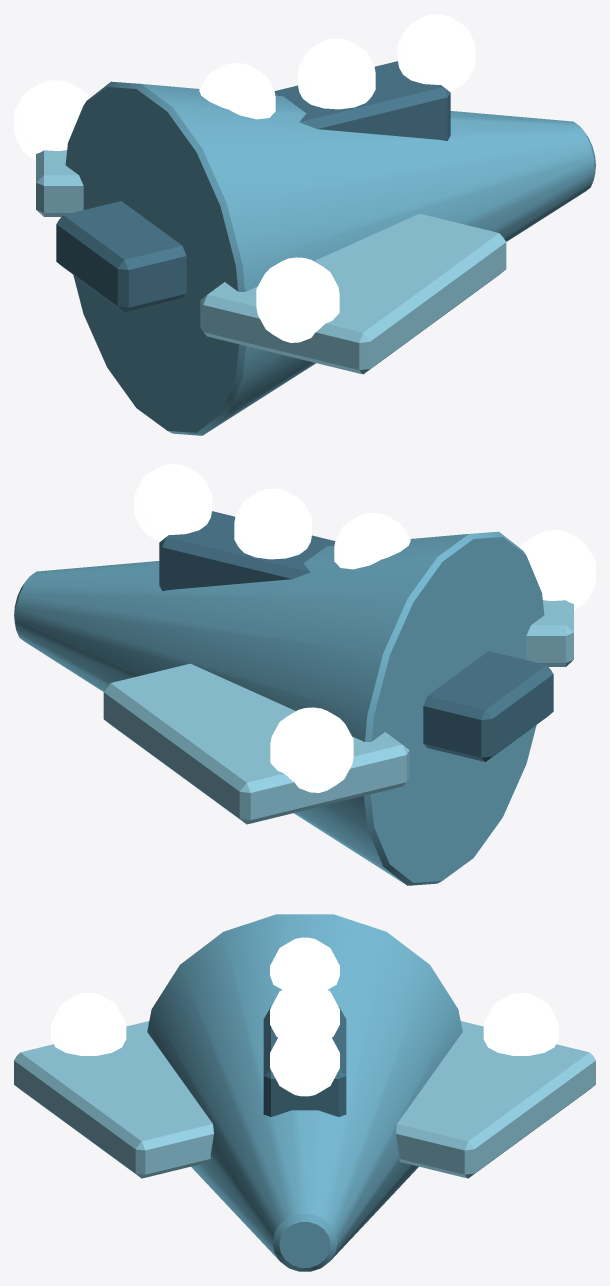
The model's file is enemy_surger.glb.
The picture shows the model from 3 angles, top to bottom: view 1: azimuth 30°, elevation 25°; view 2: azimuth 150°, elevation 25°; view 3: azimuth 270°, elevation 25°; orthographic projection. The views are drawn at different scales.
Visible parts, largest first — view 1: Cone, Cube, Cube.003, Cube.002, Sphere, Sphere.004, Sphere.003, Sphere.001, Sphere.002, Cube.001; view 2: Cone, Cube.001, Cube.003, Cube.002, Sphere.001, Sphere.004, Sphere.003, Sphere, Sphere.002, Cube; view 3: Cone, Cube, Cube.001, Sphere.004, Sphere, Sphere.001, Cube.002, Sphere.003, Sphere.002.
Boxes of the visible parts, x1=… form: Cone: x1=65, y1=81, x2=595, y2=435; Cube: x1=200, y1=213, x2=506, y2=374; Cube.003: x1=56, y1=201, x2=186, y2=311; Cube.002: x1=274, y1=61, x2=450, y2=140; Sphere: x1=256, y1=257, x2=339, y2=342; Sphere.004: x1=397, y1=14, x2=475, y2=91; Sphere.003: x1=298, y1=38, x2=375, y2=109; Sphere.001: x1=14, y1=80, x2=89, y2=160; Sphere.002: x1=199, y1=63, x2=275, y2=119; Cube.001: x1=36, y1=150, x2=83, y2=216; Cone: x1=14, y1=531, x2=544, y2=885; Cube.001: x1=103, y1=663, x2=409, y2=824; Cube.003: x1=423, y1=651, x2=553, y2=761; Cube.002: x1=159, y1=511, x2=335, y2=590; Sphere.001: x1=270, y1=707, x2=353, y2=792; Sphere.004: x1=134, y1=464, x2=212, y2=541; Sphere.003: x1=234, y1=488, x2=311, y2=559; Sphere: x1=520, y1=530, x2=595, y2=610; Sphere.002: x1=334, y1=513, x2=410, y2=569; Cube: x1=526, y1=600, x2=573, y2=666; Cone: x1=147, y1=914, x2=462, y2=1271; Cube: x1=14, y1=1021, x2=213, y2=1178; Cube.001: x1=396, y1=1021, x2=595, y2=1178; Sphere.004: x1=270, y1=1024, x2=339, y2=1096; Sphere: x1=51, y1=993, x2=126, y2=1055; Sphere.001: x1=483, y1=993, x2=558, y2=1055; Cube.002: x1=263, y1=1006, x2=346, y2=1116; Sphere.003: x1=270, y1=981, x2=339, y2=1037; Sphere.002: x1=270, y1=937, x2=339, y2=989.
Size of the model in its own units: 0.99 by 0.6423 by 1.13.
